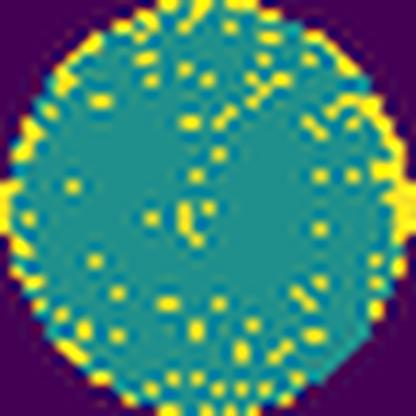Edge-Loc: (320, 92, 415, 246), (10, 112, 46, 166), (0, 175, 26, 236)
